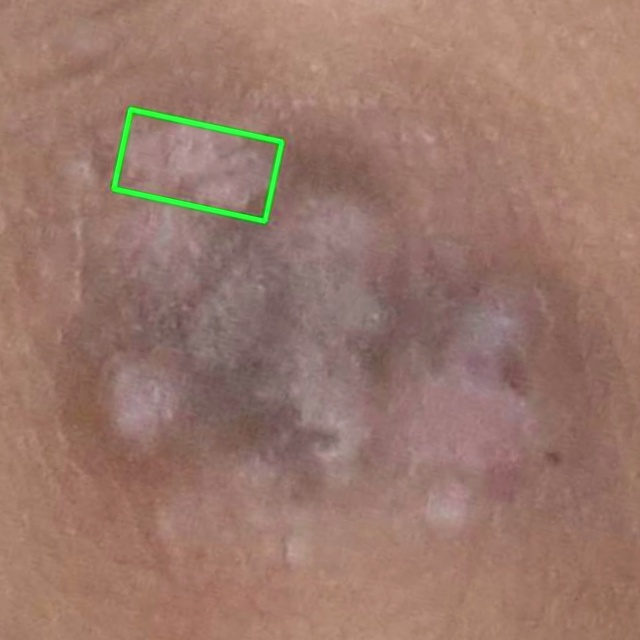Contact Dermatitis: (113, 109, 281, 221)
